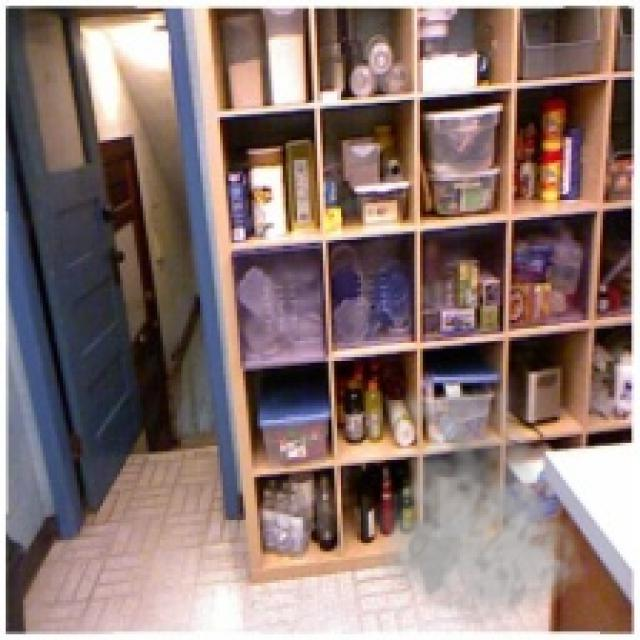smoke: (360, 368, 589, 628)
